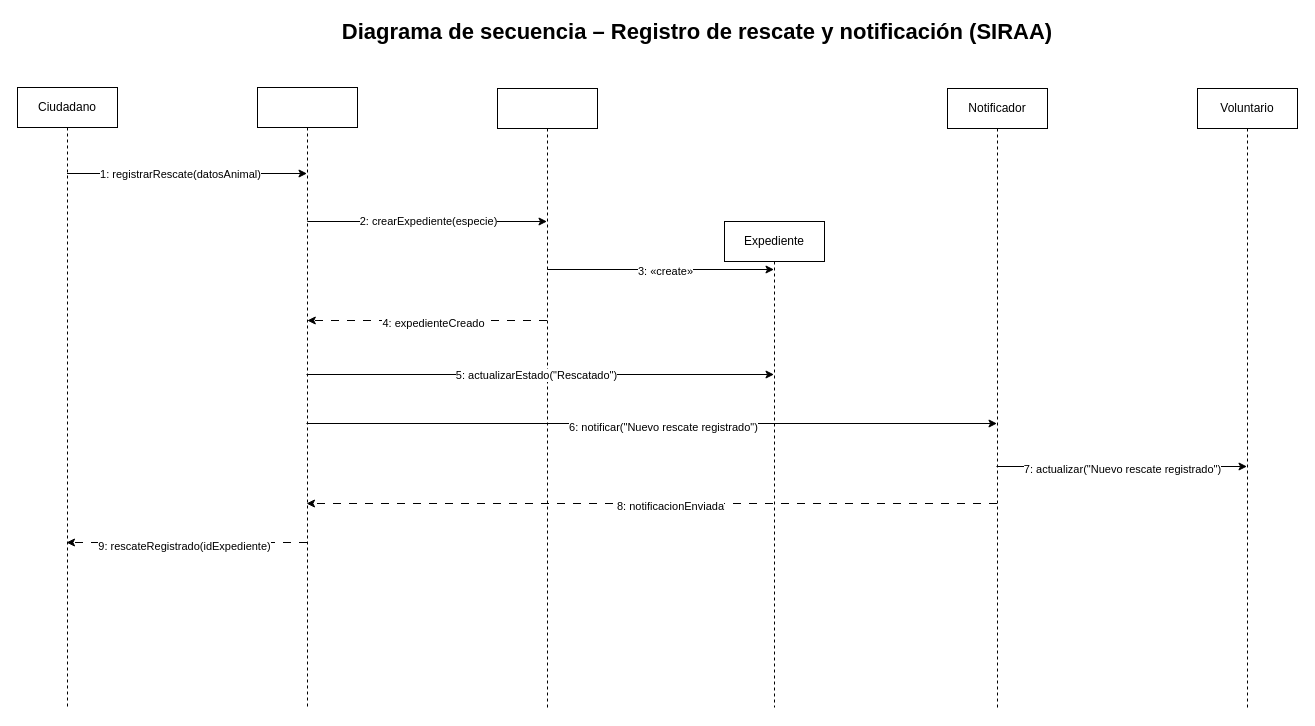
Some shapes in this 1315 by 726 pixel diagram are drawn without their labels. The shapes that lost their labels are listed below. From the top down, each one's box as (x1, y1, x2, y2) in pixels, then its label:
(256, 86, 358, 708): Gestor
(496, 88, 598, 708): Fábrica
